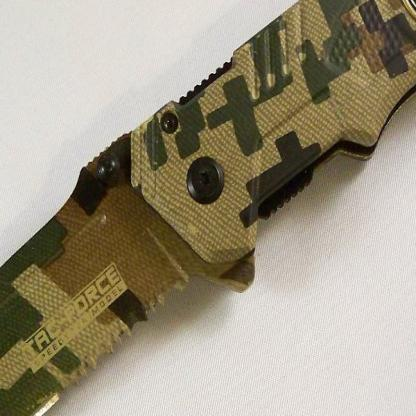knife: (0, 86, 248, 415)
